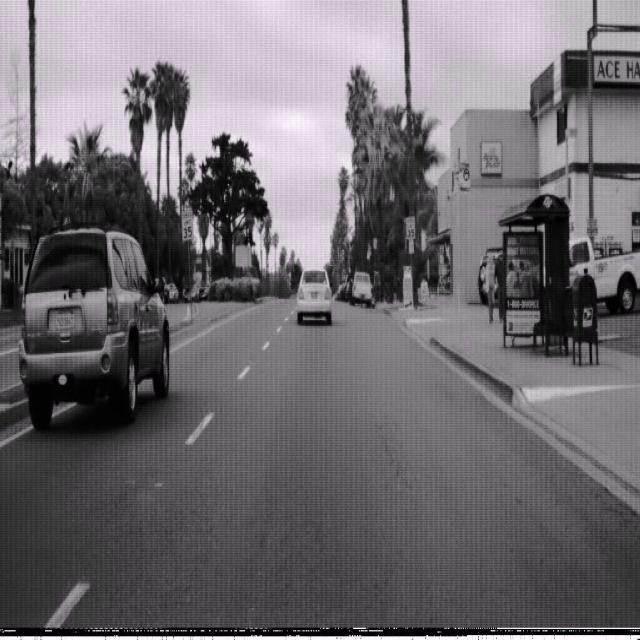speedLimit35: (180, 207, 194, 242), (405, 215, 416, 240)
